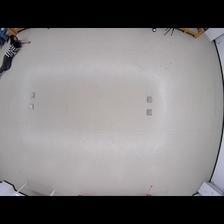fall: (1, 34, 31, 77)
